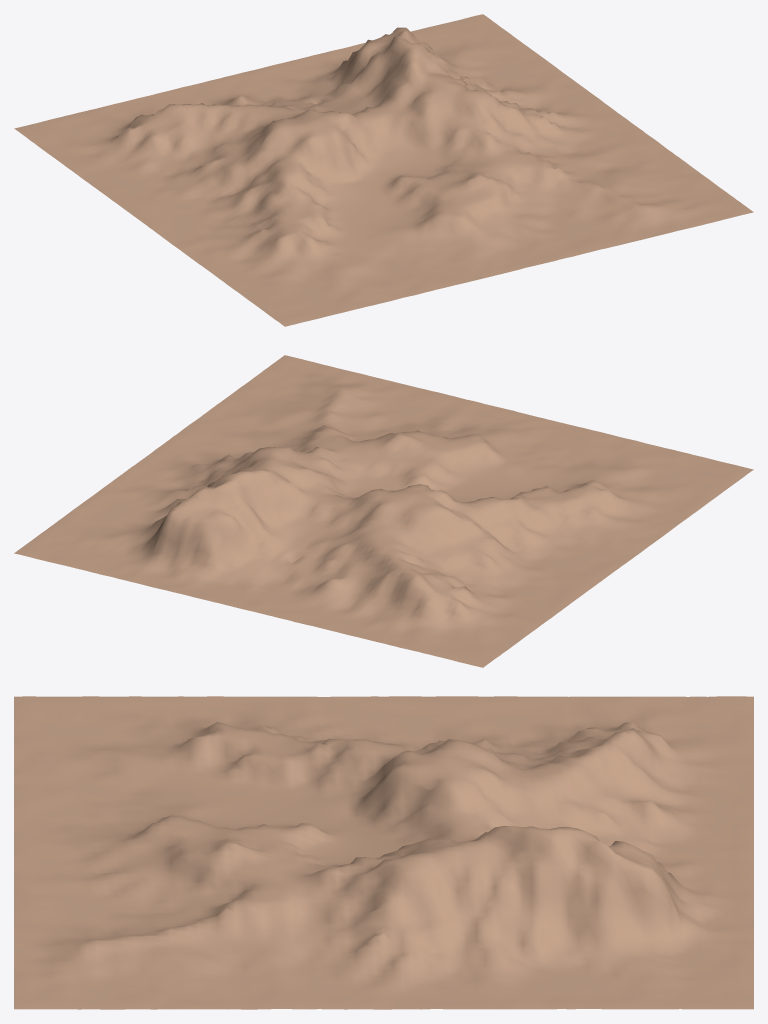
3 views of the same model, one above another, from view 1: azimuth 30°, elevation 25°; view 2: azimuth 150°, elevation 25°; view 3: azimuth 270°, elevation 25° (orthographic). The views are drawn at different scales.
Parts seen in each view (by area): view 1: DM_lod_2; view 2: DM_lod_2; view 3: DM_lod_2.
Boxes of the visible parts, box(x1,y1,x2,y2) form: DM_lod_2: box(14, 14, 753, 326); DM_lod_2: box(14, 355, 753, 667); DM_lod_2: box(14, 696, 753, 1009).
Size of the model in its own units: 300 by 36.58 by 300.
